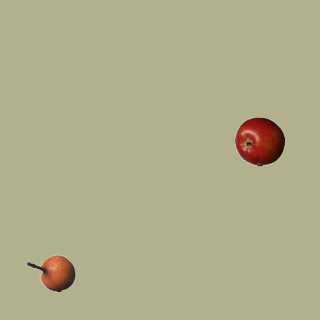Apple Braeburn: (234, 116, 284, 166)
Granadilla: (25, 248, 75, 298)
